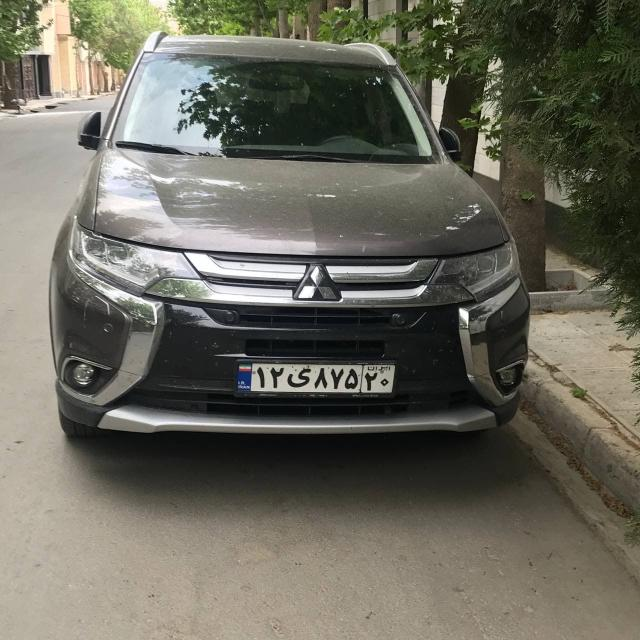Plates: (236, 363, 396, 393)
